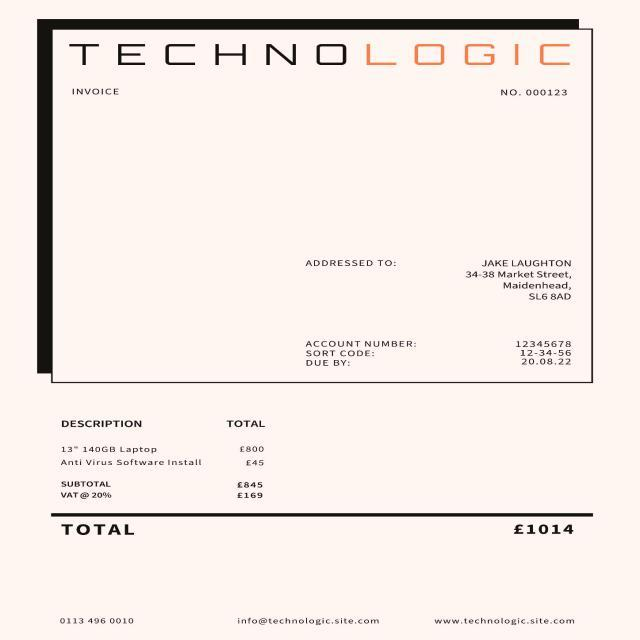ROI: (62, 37, 589, 72), (288, 251, 586, 310), (287, 326, 587, 372), (70, 81, 580, 108), (44, 414, 274, 472), (44, 521, 596, 541), (44, 480, 274, 502), (230, 612, 383, 630), (426, 610, 592, 626), (50, 612, 144, 632)
